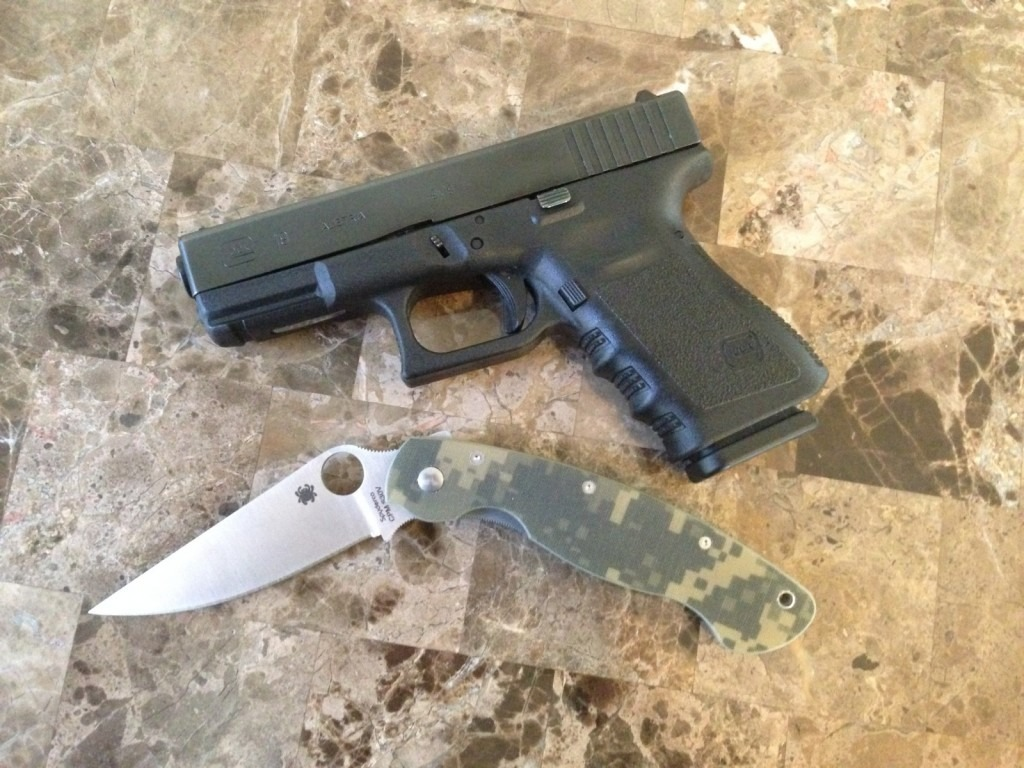gun: (161, 79, 835, 486)
knife: (83, 430, 823, 725)
